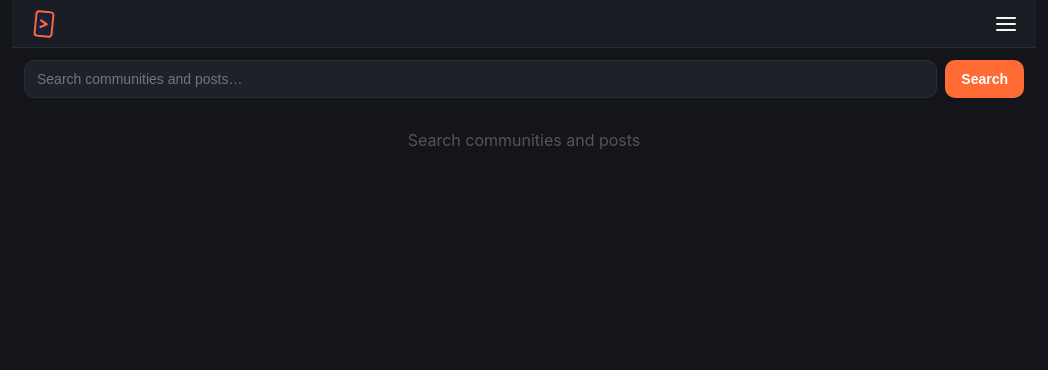
Test: SearchPage › switches to Posts tab and shows post results
This screenshot has width=1048, height=370.
Type "rust" into the search field.
click(481, 79); type("rust")  # box [24, 60, 937, 98]
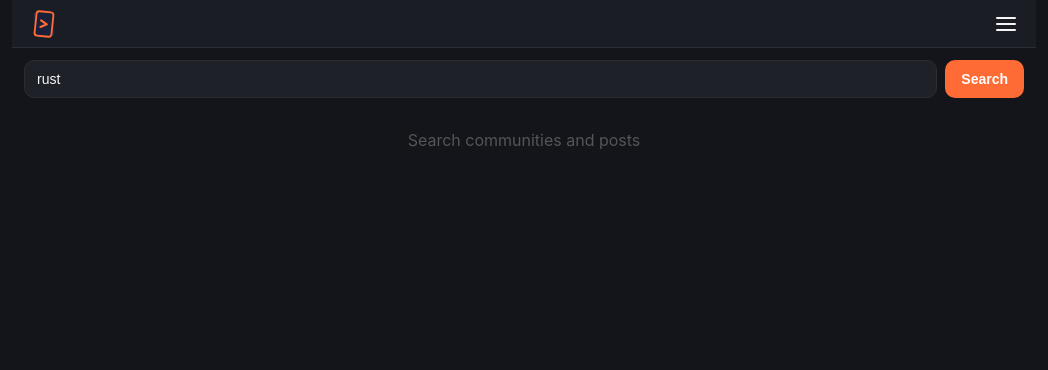
Click the button "Search".
click(985, 79)  # box [945, 60, 1024, 98]
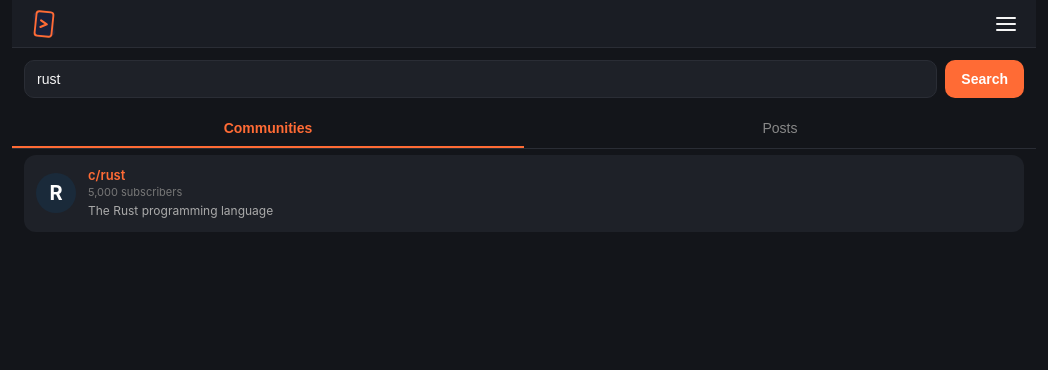
Expected: the button "Communities" is shown, [12, 110, 524, 148]
Click the button "Posts".
click(780, 129)  # box [524, 110, 1036, 148]
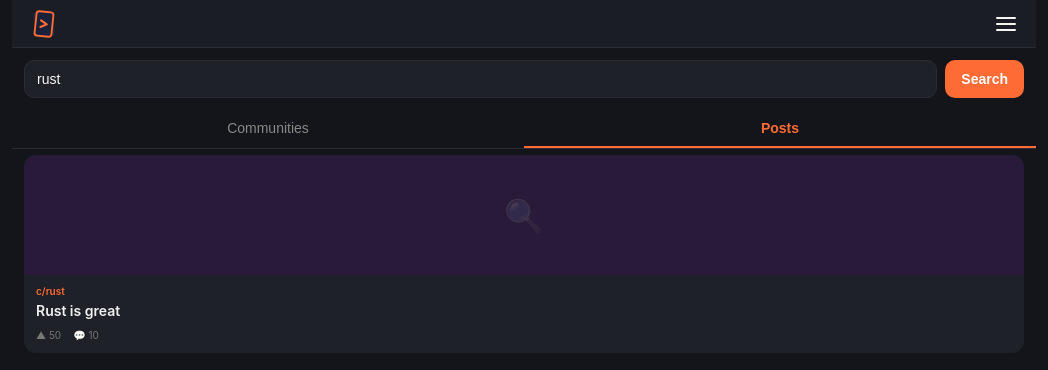
Expected: the text "Rust is great" is shown, [36, 302, 120, 319]
